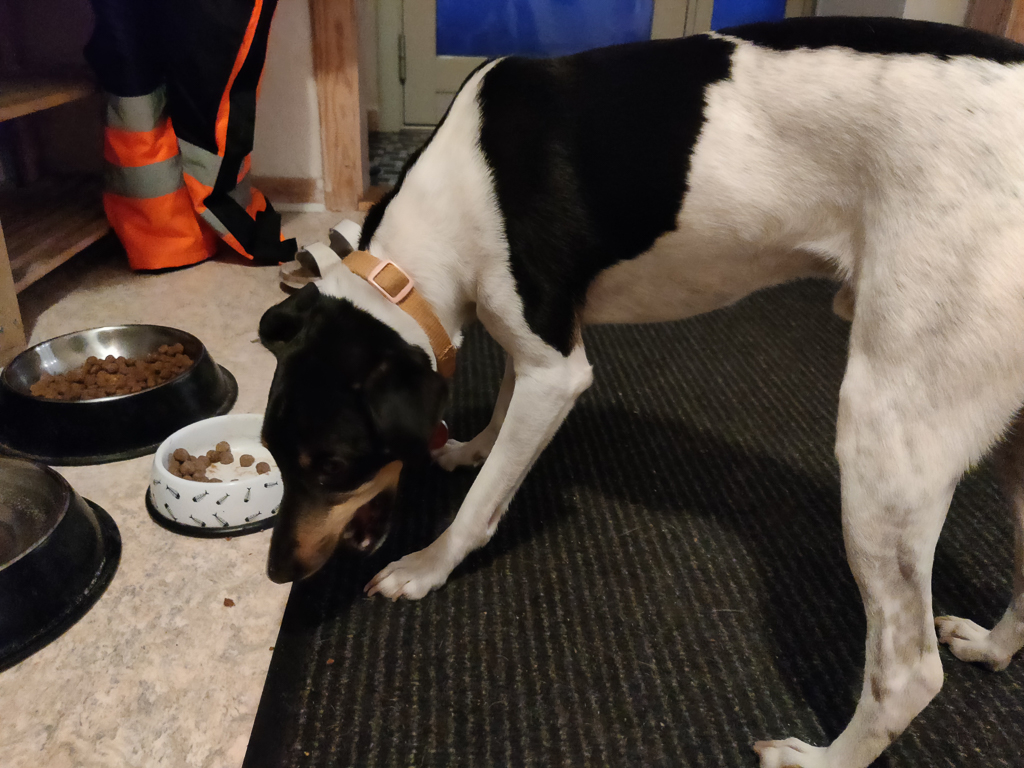Dog: (253, 8, 1024, 768)
